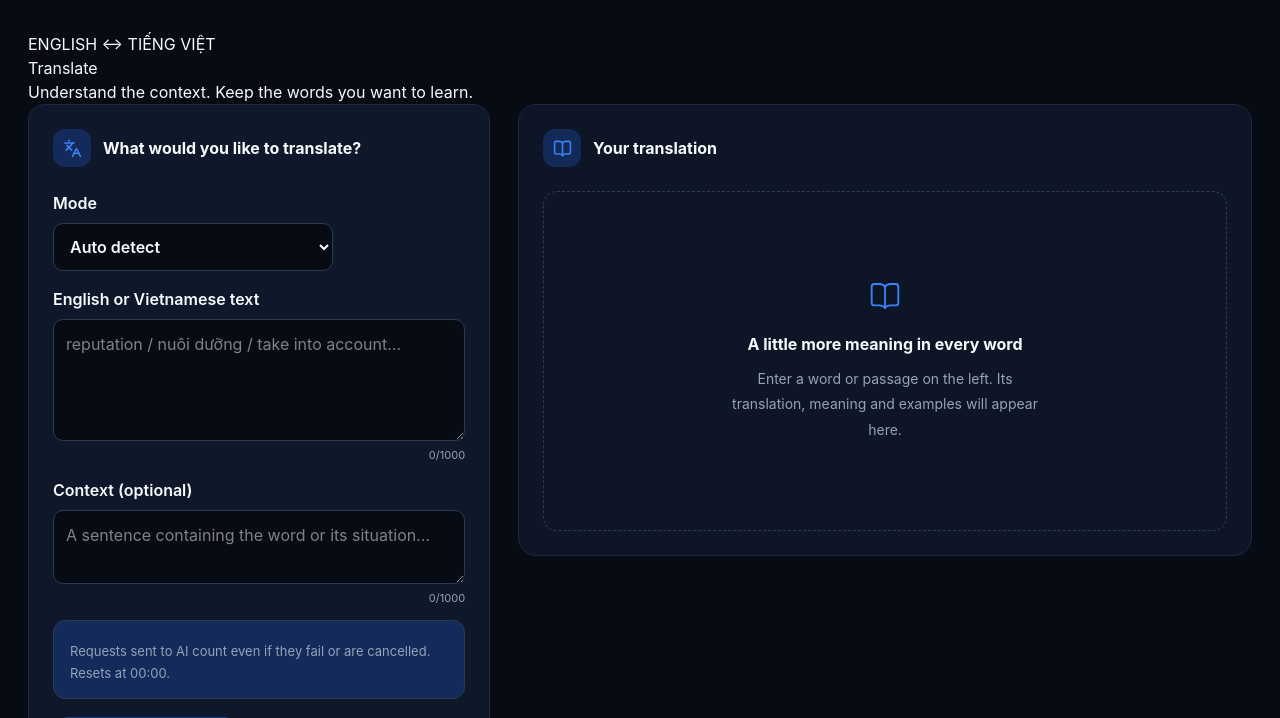
Test: shows a timeout reason and retains input without automatically retrying
Type "proof" into the text box labelled "English or Vietnamese text" at (259, 380), box [53, 319, 465, 441]
(page scrolled)
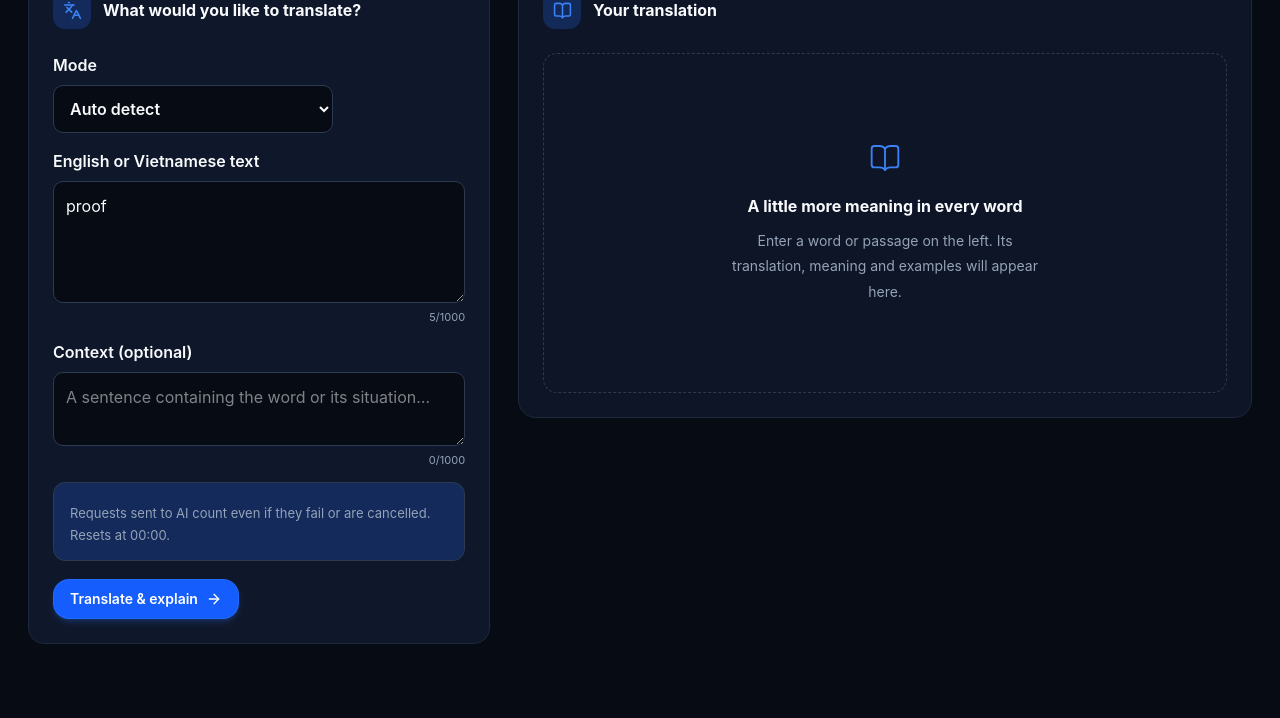
Click the button "Translate & explain" at (146, 599), box [53, 579, 239, 619]
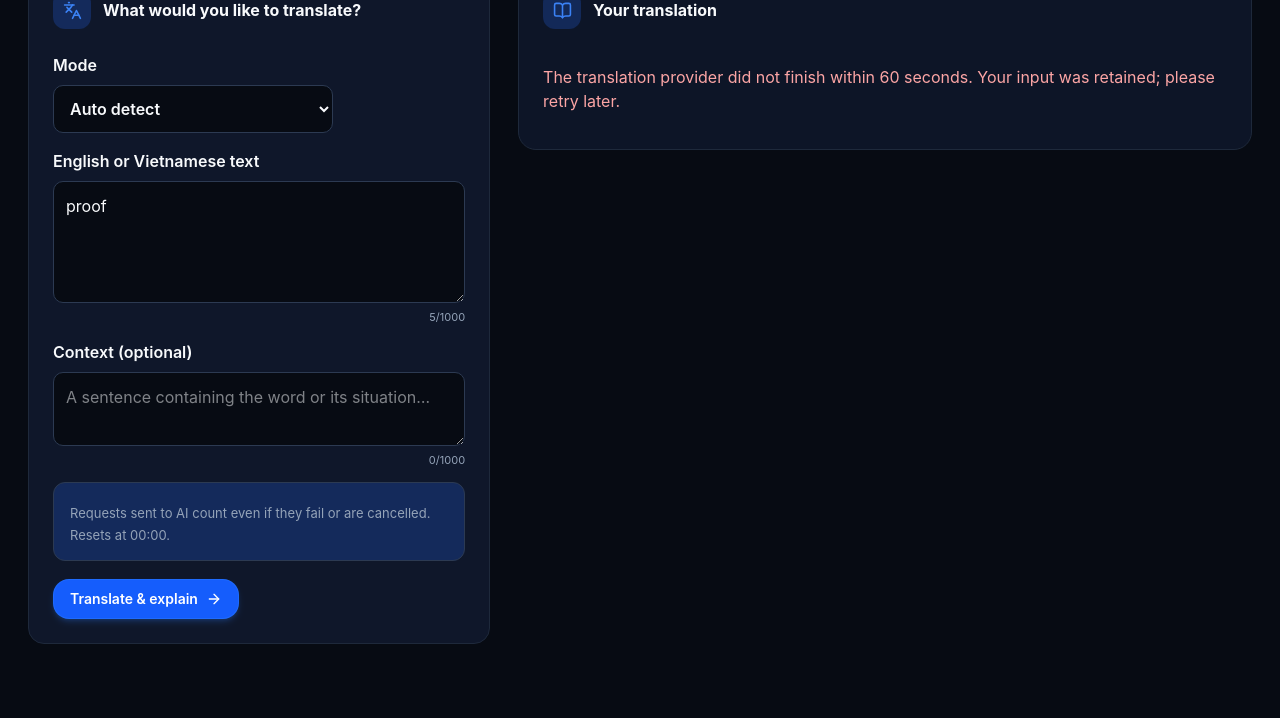
Check: the message shows "60 seconds", box [543, 67, 1215, 111]
